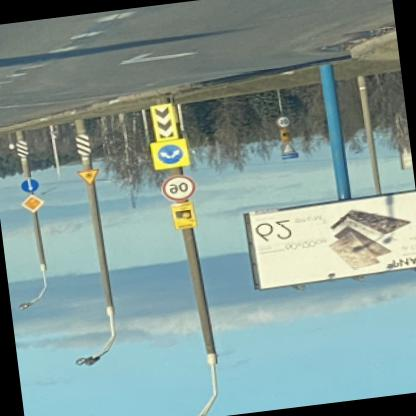speedlimit: (158, 175, 194, 204), (274, 116, 288, 128)
